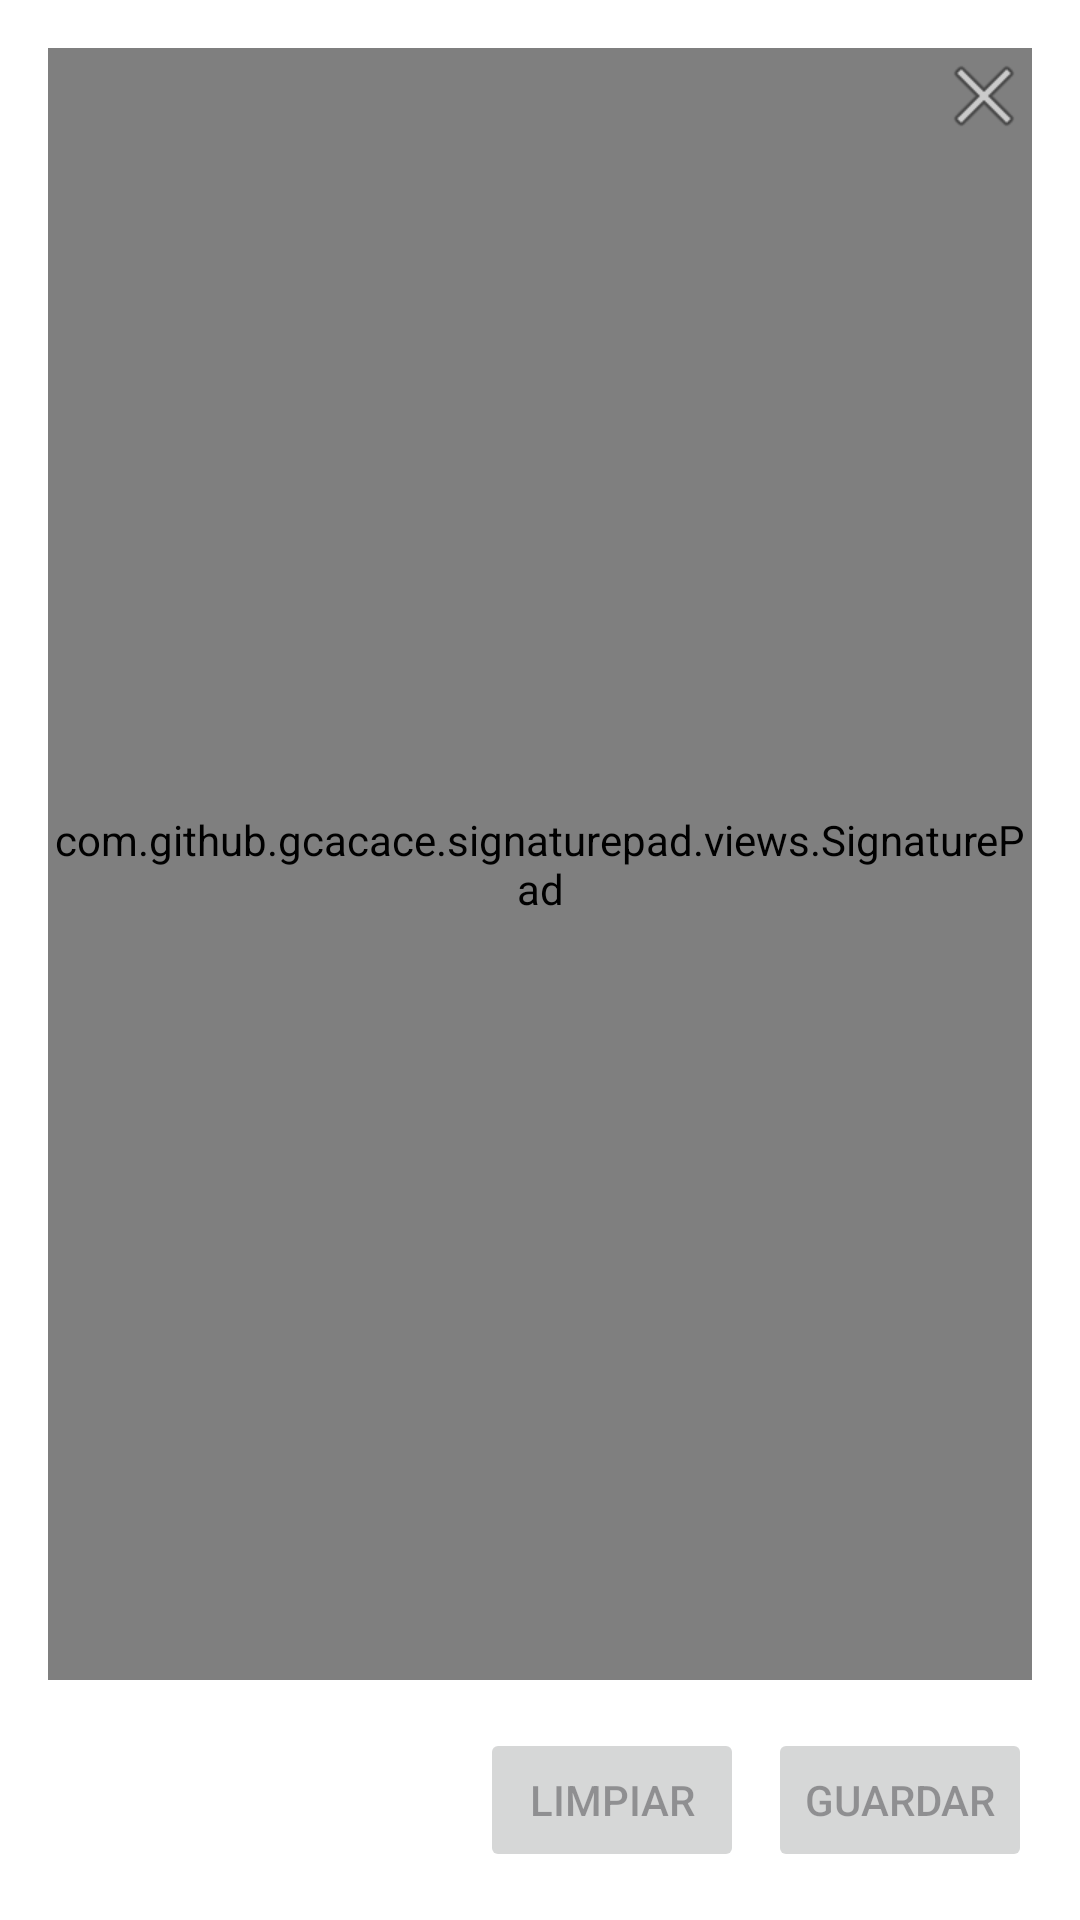

Screen size 1080×1920. Icon name, then its center in pixels as point (x, y):
close clear cancel: point (984, 96)
